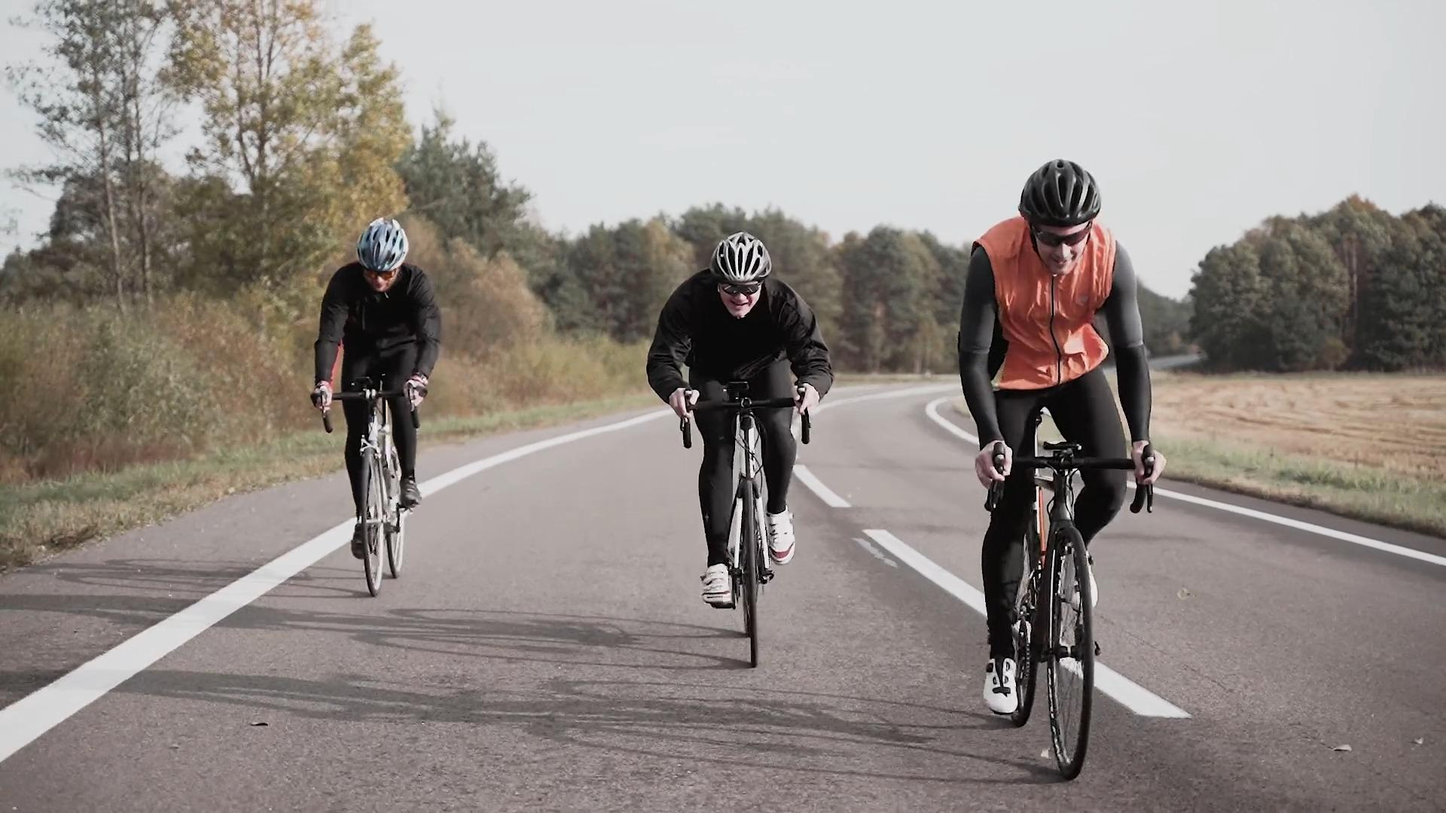bicyclist: (960, 158, 1167, 778), (647, 233, 834, 669), (312, 216, 442, 598)
helmet: (1016, 157, 1103, 275), (709, 233, 773, 319), (354, 216, 411, 293)
